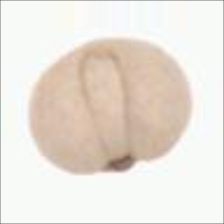L5: (76, 43, 135, 157), (93, 151, 150, 178)
L6: (23, 35, 197, 180)
